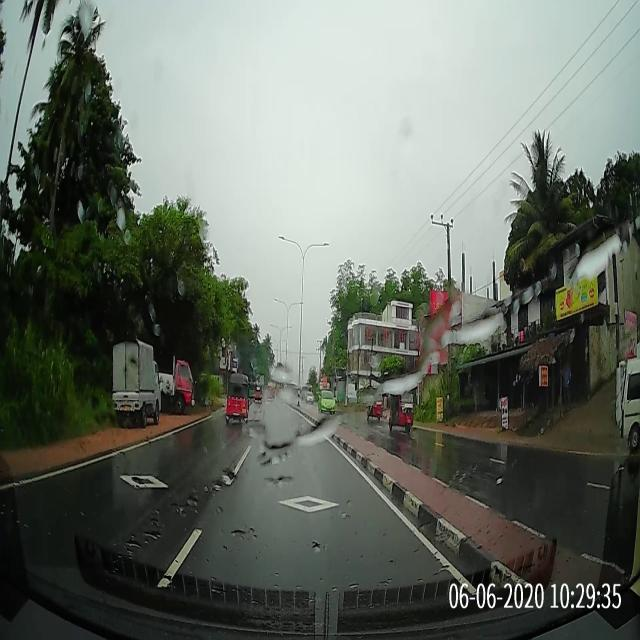Romb: (274, 494, 343, 514), (116, 473, 173, 490)
